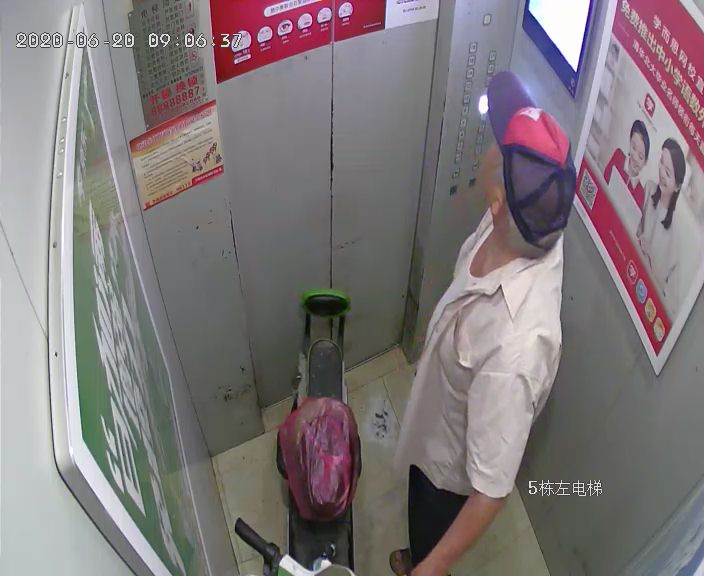Electric-bicycle: (235, 288, 362, 576)
